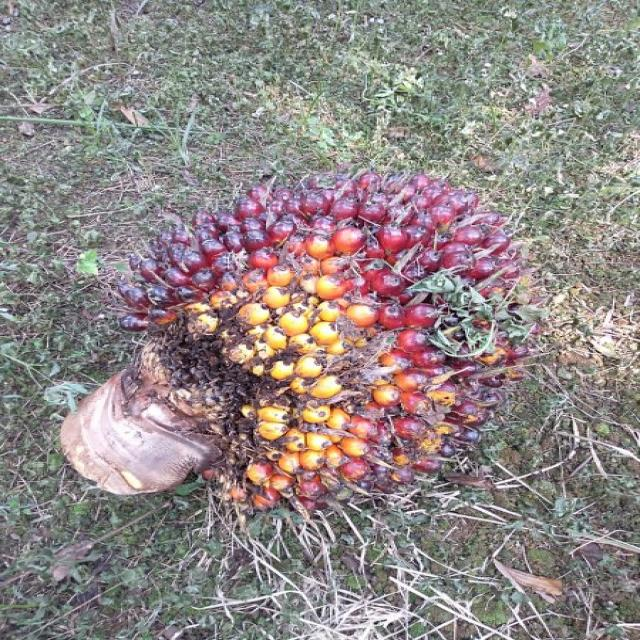fraksi 1: (68, 123, 572, 561)
